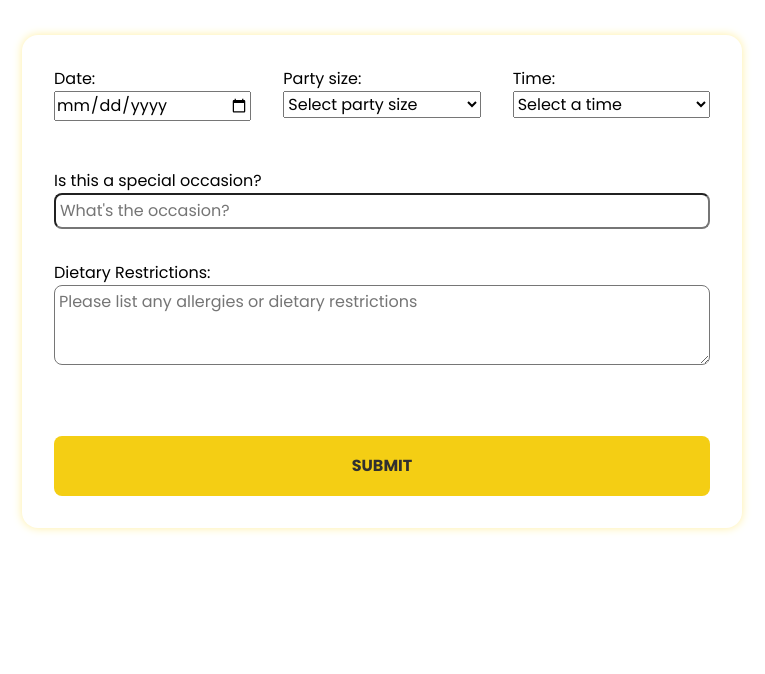
Test case: Reservations › confirms a reservation when required fields are filled in
Type "2026-10-15" into the date field labelled "Date:".
click(153, 106); type("2026-10-15")  # box x1=54 y1=91 x2=251 y2=121
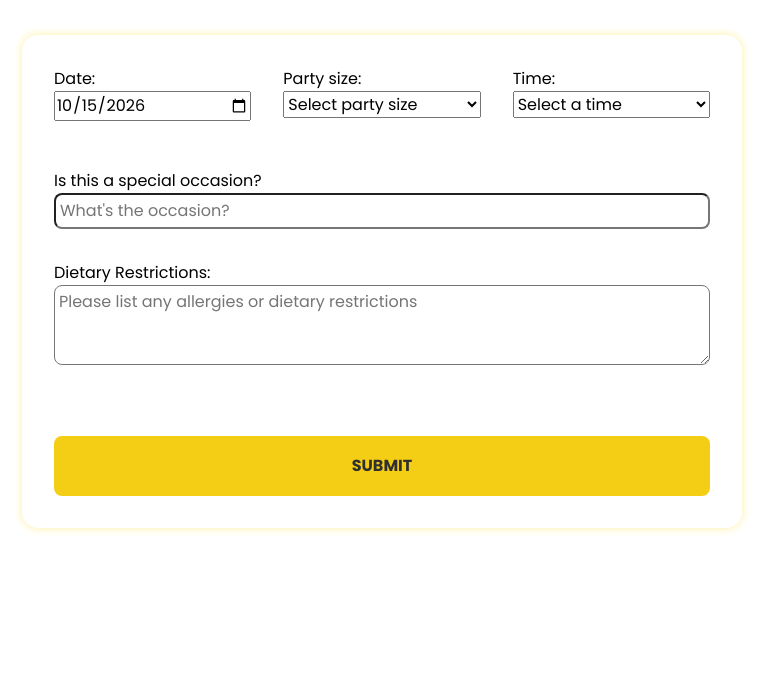
Select "2" in the dropdown labelled "Party size:" at (382, 104), box x1=283 y1=91 x2=481 y2=118
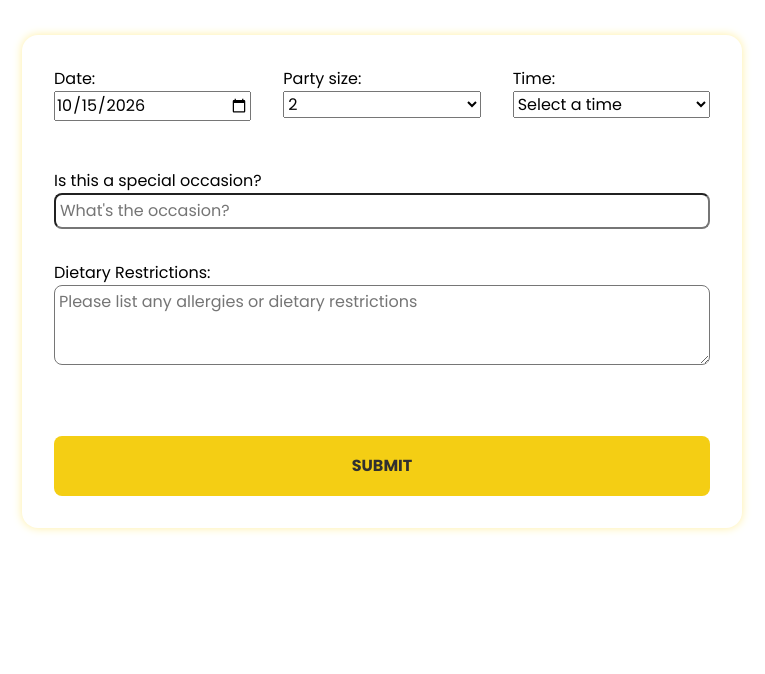
Select "17:00" in the dropdown labelled "Time:" at (611, 104), box x1=513 y1=91 x2=710 y2=118
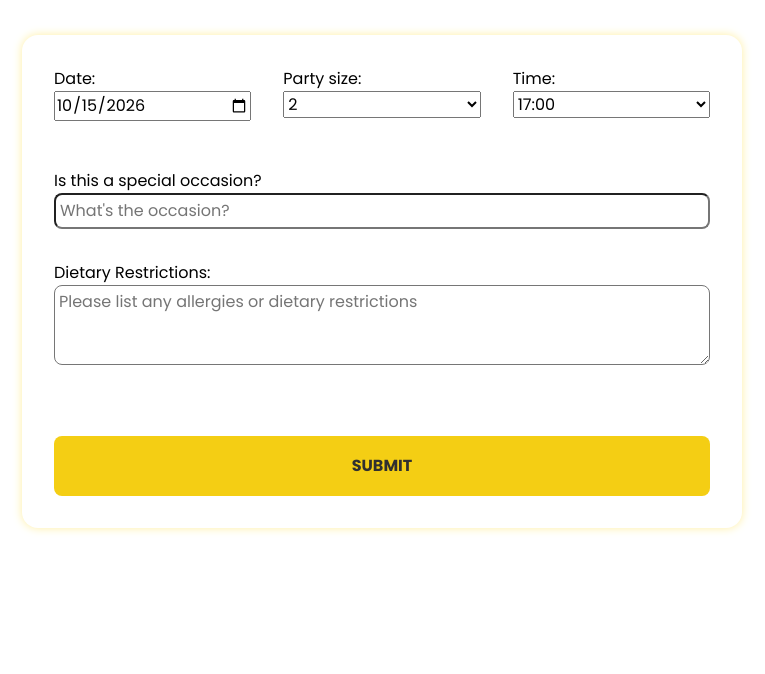
Type "Birthday" into the field labelled "Is this a special occasion?".
click(382, 211); type("Birthday")  # box x1=54 y1=193 x2=710 y2=229
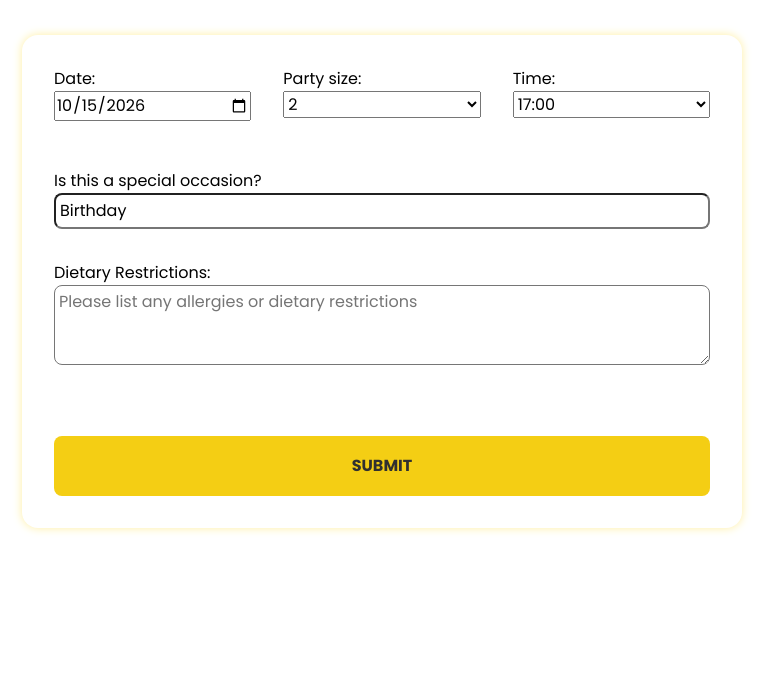
Type "Vegetarian" into the text box labelled "Dietary Restrictions:".
click(382, 325); type("Vegetarian")  # box x1=54 y1=285 x2=710 y2=365
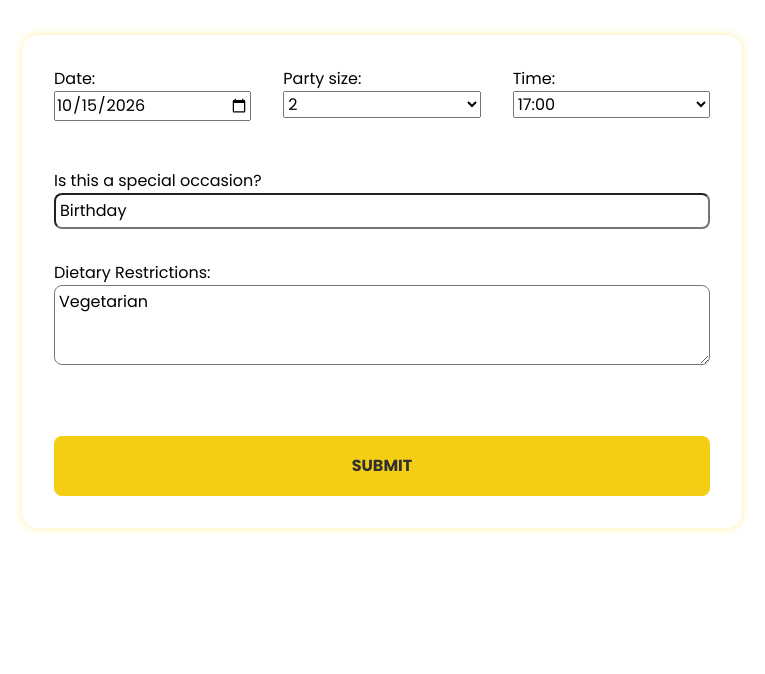
Click the button "Submit".
click(382, 466)  # box x1=54 y1=436 x2=710 y2=496
(page scrolled)
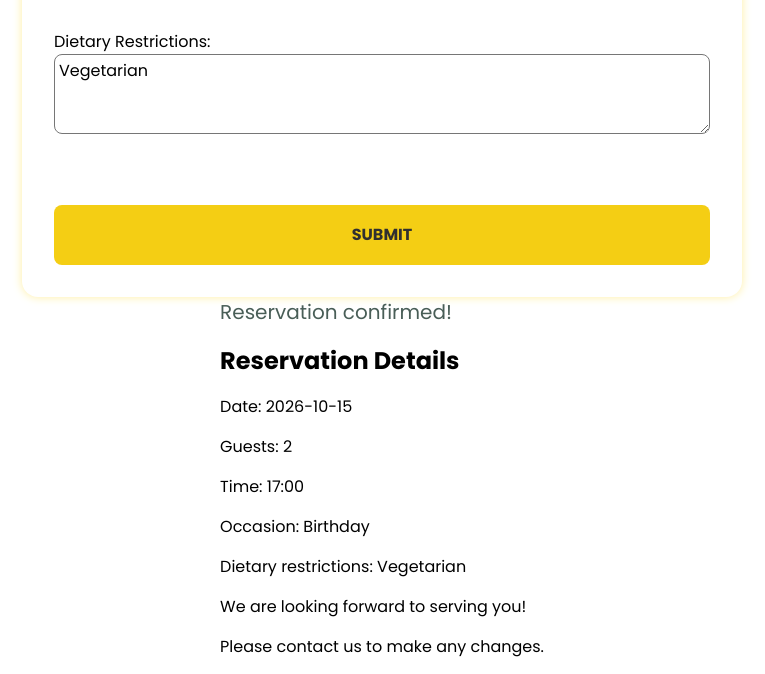
Expected: the text "Reservation confirmed!" is shown, x1=220 y1=298 x2=452 y2=326
Expected: the text "Date: 2026-10-15" is shown, x1=220 y1=395 x2=352 y2=418
Expected: the text "Guests: 2" is shown, x1=220 y1=435 x2=292 y2=458
